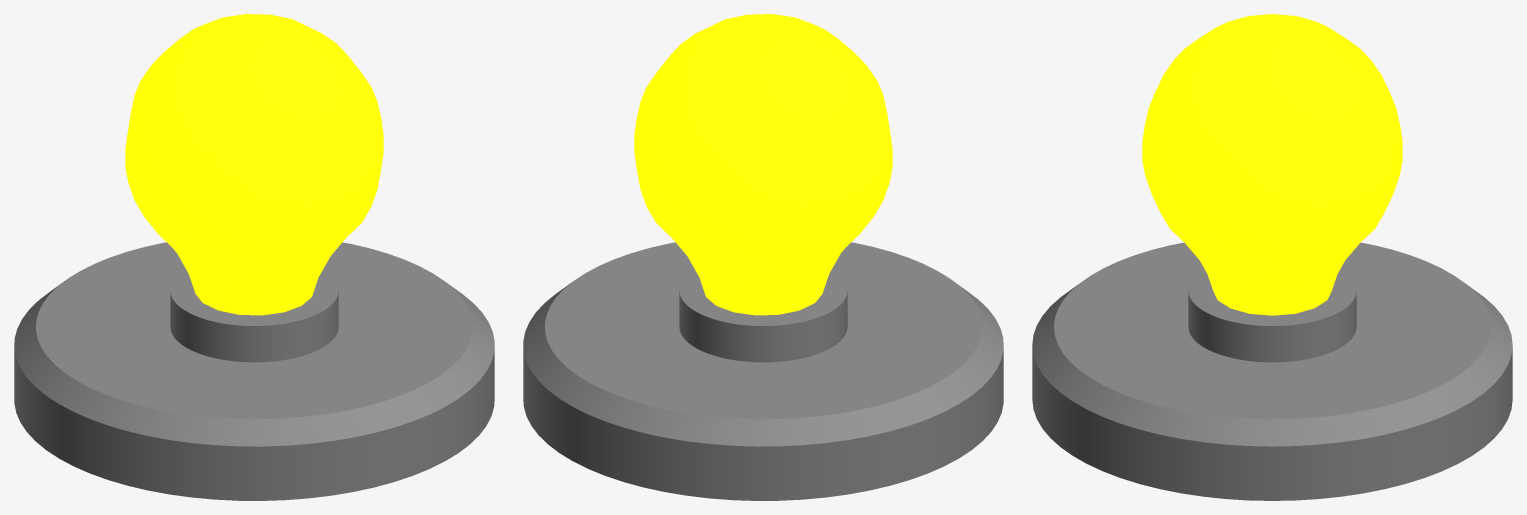
The model's file is light.fbx.
3 renders of one model, left to right at view 1: azimuth 30°, elevation 25°; view 2: azimuth 150°, elevation 25°; view 3: azimuth 270°, elevation 25°, orthographic.
Parts seen in each view (by area): view 1: base.001, Plane.001, Cylinder.002; view 2: base.001, Plane.001, Cylinder.002; view 3: base.001, Plane.001, Cylinder.002.
Boxes of the visible parts, x1,y1,x2,y2 form: base.001: [14, 242, 494, 500]; Plane.001: [125, 14, 383, 315]; Cylinder.002: [170, 270, 338, 362]; base.001: [523, 242, 1003, 500]; Plane.001: [634, 14, 892, 315]; Cylinder.002: [679, 270, 847, 362]; base.001: [1032, 242, 1512, 500]; Plane.001: [1142, 14, 1402, 315]; Cylinder.002: [1188, 269, 1356, 362].
Bounding box in the file's own units: 2.4 × 2.05 × 2.4.
